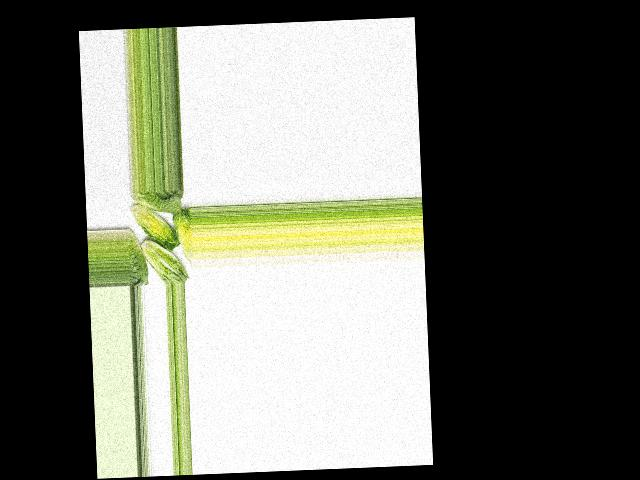lettuce: (132, 189, 184, 216)
